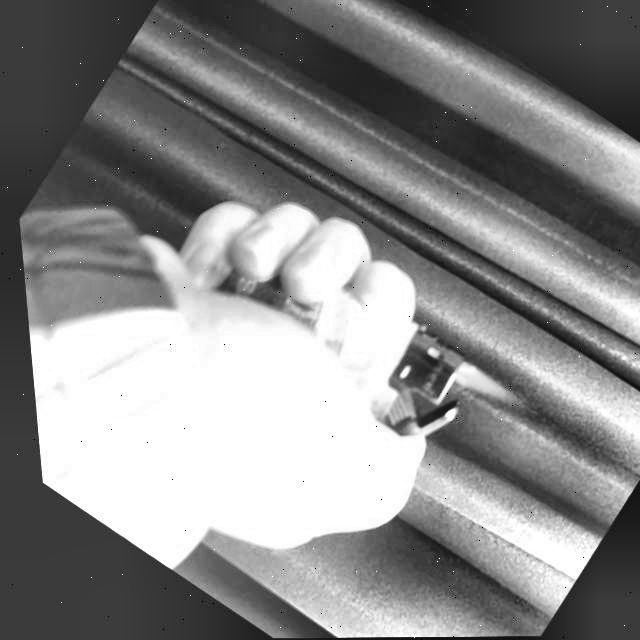Fire: (439, 354, 525, 424)
